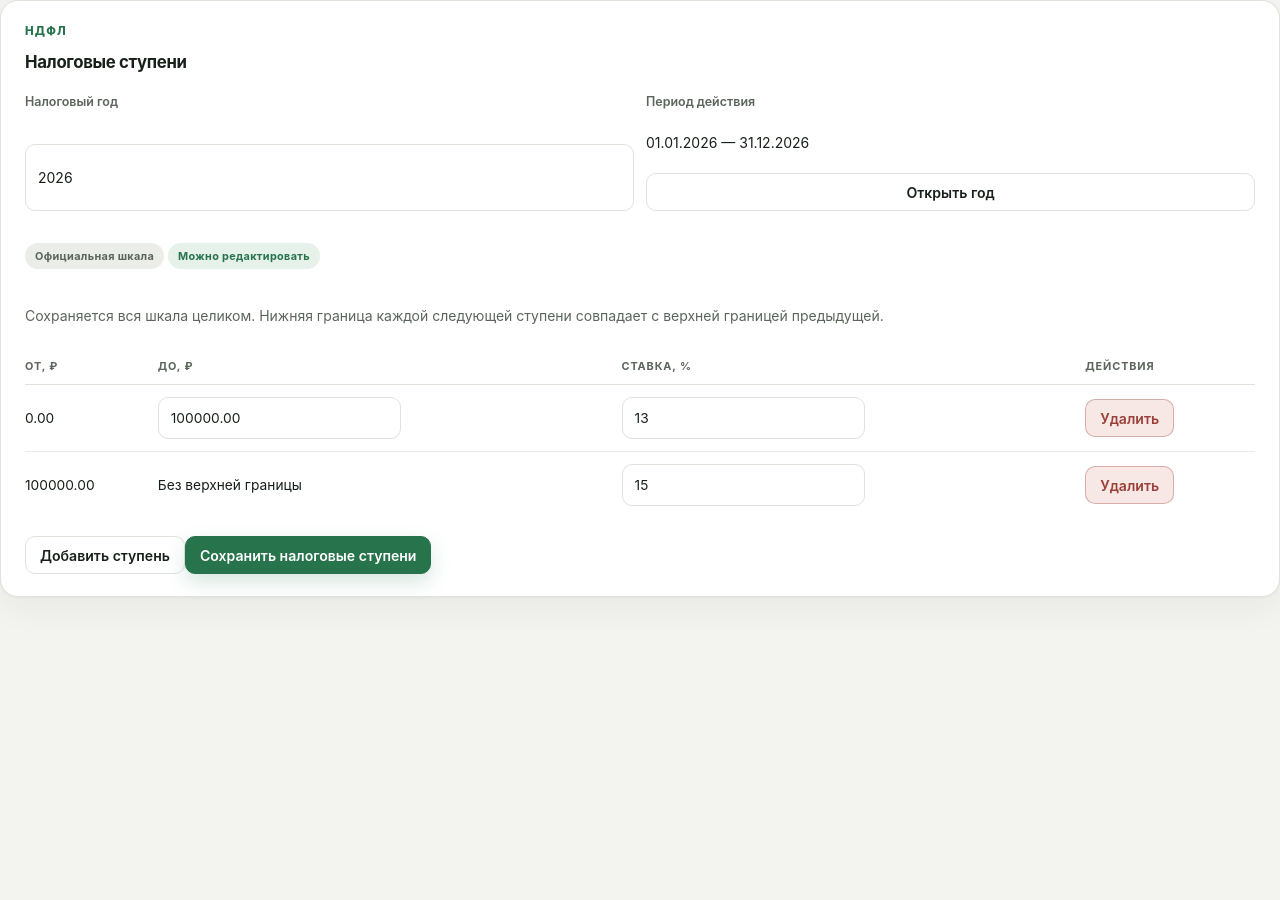
Test: TaxBracketsPanel › shows effective/source metadata and saves one exact contiguous set
Check: the text "Официальная шкала" is shown, box x1=25 y1=243 x2=164 y2=269
Check: the text "Можно редактировать" is shown, box x1=168 y1=243 x2=320 y2=269
Clear the field named "Верхняя граница ступени 1" at [279, 418], box x1=158 y1=398 x2=401 y2=440
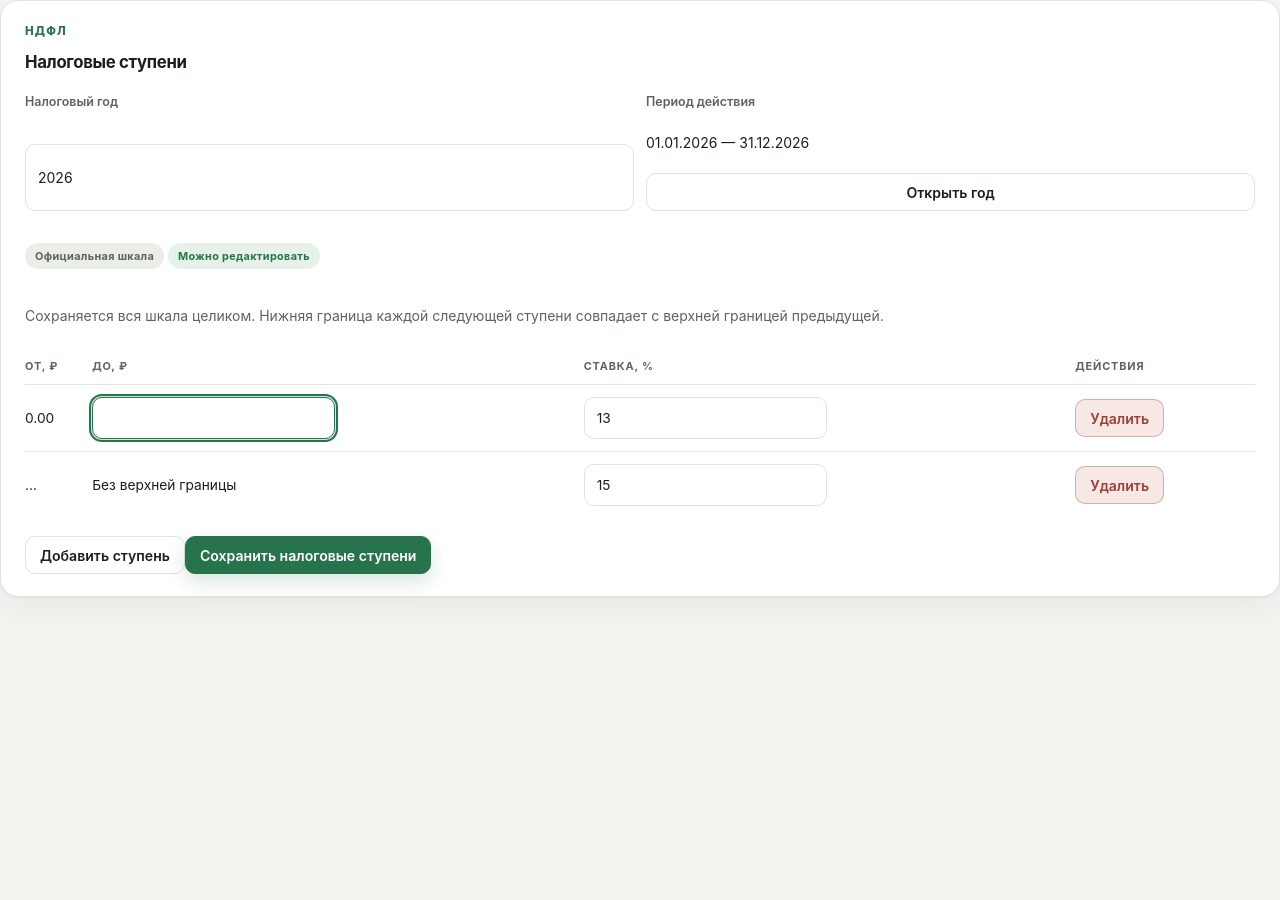
Type "125000,50" into the field named "Верхняя граница ступени 1" at [214, 418], box x1=92 y1=398 x2=335 y2=440
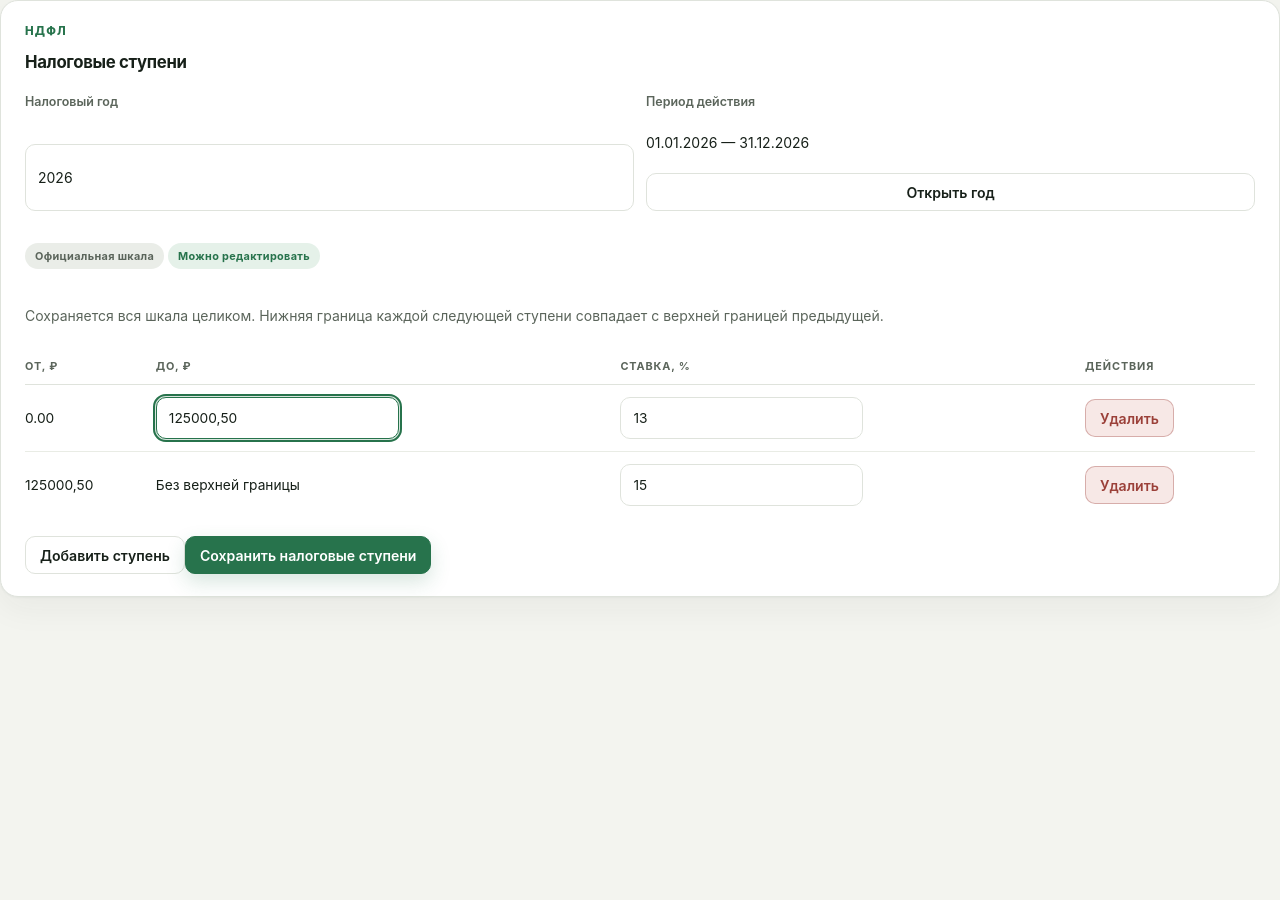
Replace the text in the field named "Ставка ступени 1" with "13,25" at [742, 418], box x1=620 y1=398 x2=863 y2=440
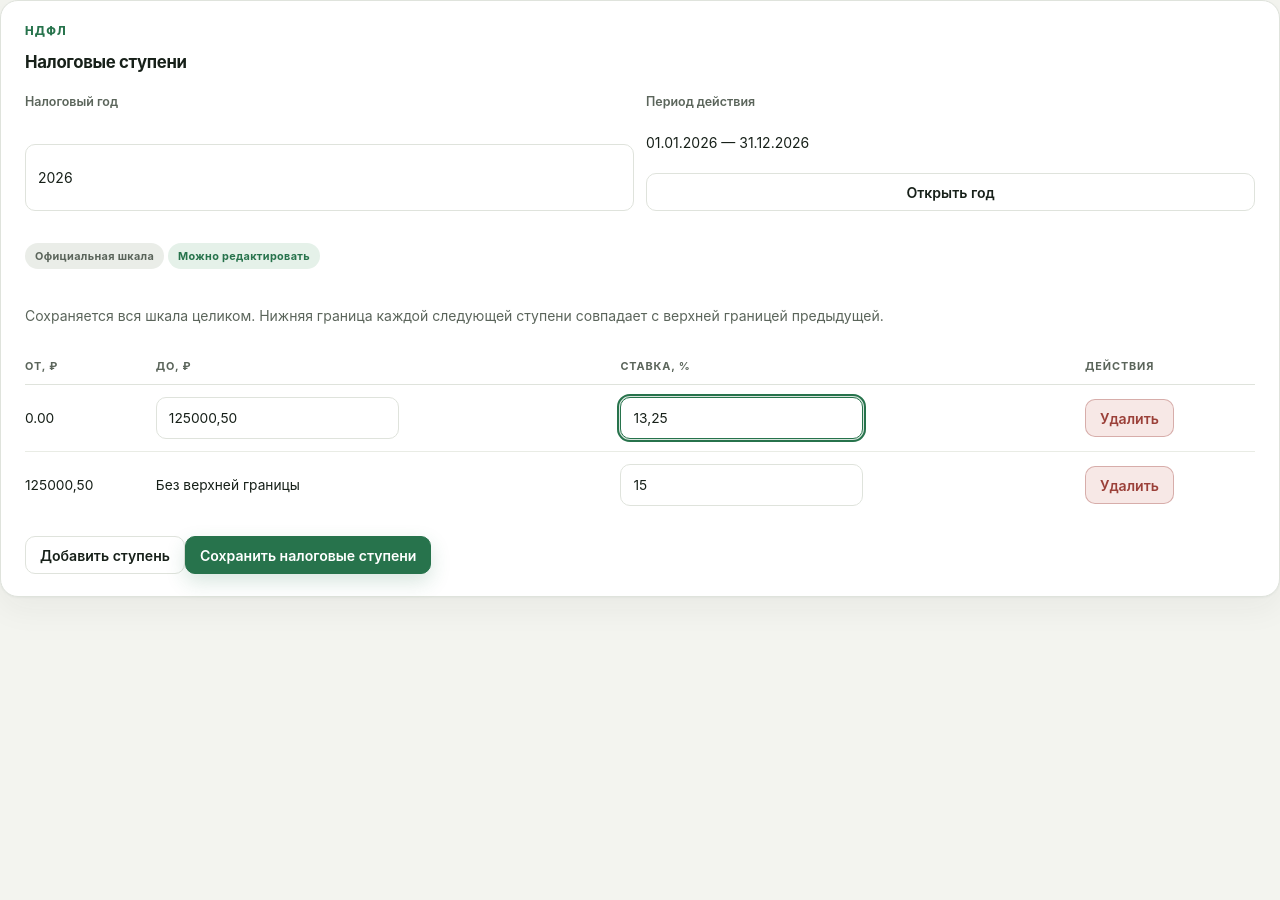
Click the button "Сохранить налоговые ступени" at [308, 556], box x1=185 y1=536 x2=432 y2=574
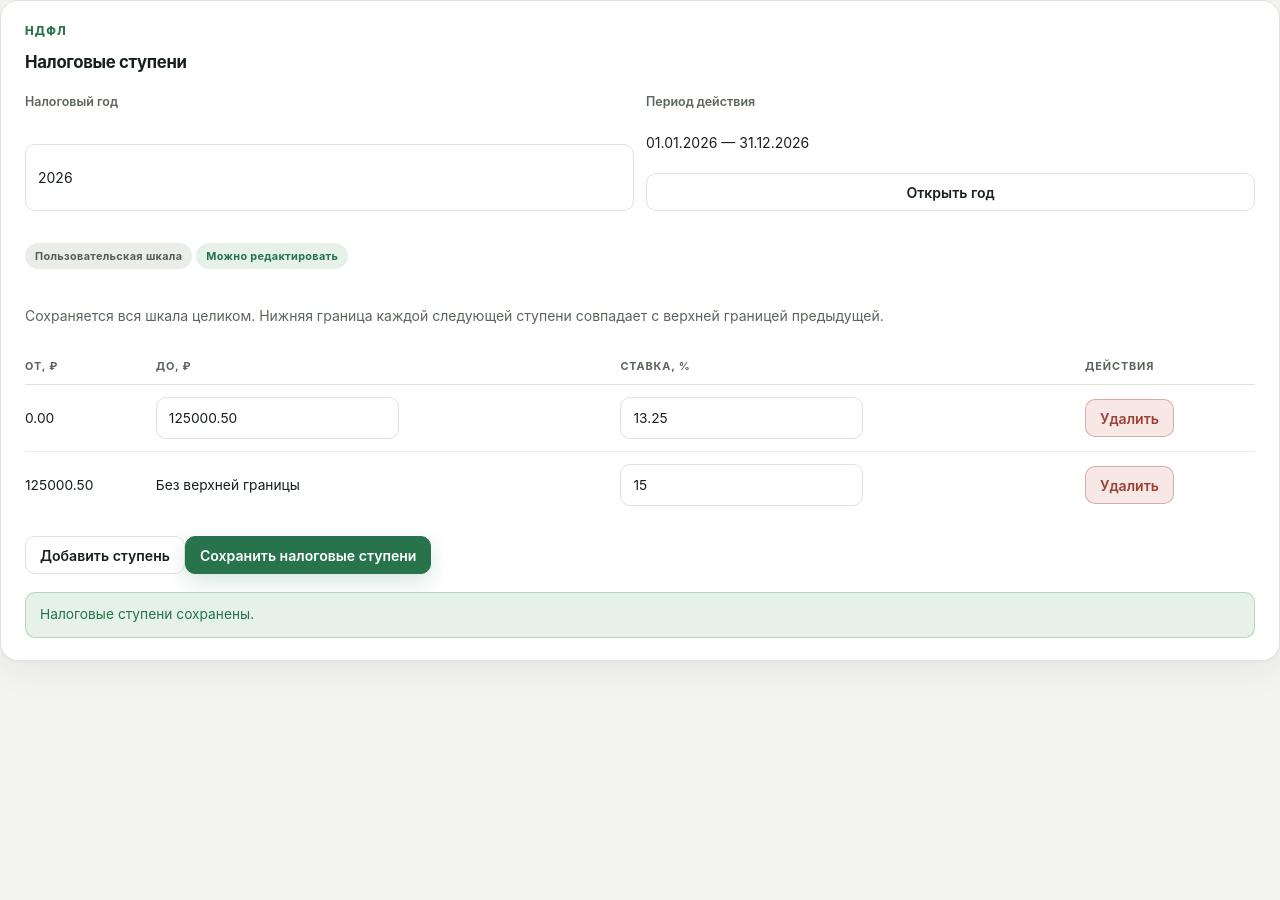
Check: the message shows "Налоговые ступени сохранены", box x1=40 y1=606 x2=254 y2=622
Check: the text "Пользовательская шкала" is shown, box x1=25 y1=243 x2=192 y2=269
